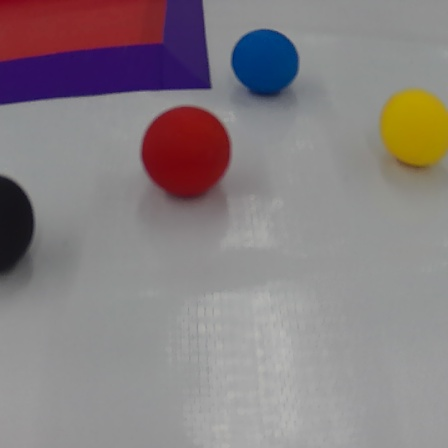black: (0, 160, 34, 277)
blue: (231, 23, 299, 93)
red: (130, 102, 240, 195)
red_aim: (0, 0, 221, 112)
yellow: (381, 90, 448, 173)
